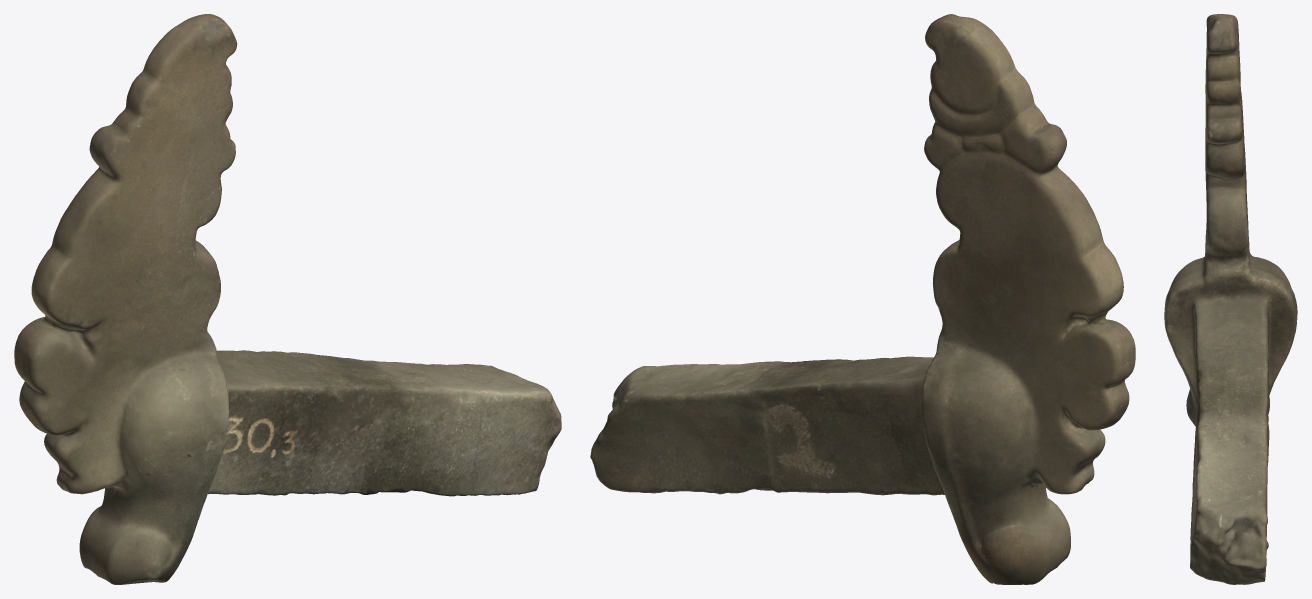
Rendered from 24_vattrangtri_final.glb.
The picture shows the model from 3 angles, left to right: view 1: azimuth 30°, elevation 25°; view 2: azimuth 150°, elevation 25°; view 3: azimuth 270°, elevation 25°; orthographic projection. The views are drawn at different scales.
Bounding box in the file's own units: 0.7598 × 0.7508 × 0.2051.
Materials: 1 (1 with a texture image).
